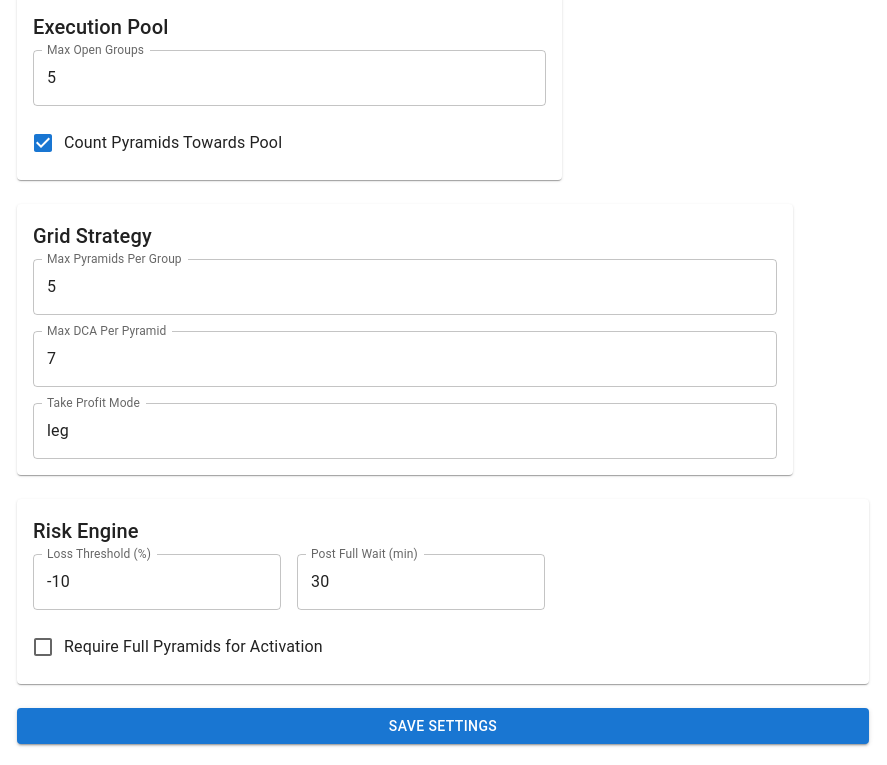
Test: SettingsPage Component › handles error on config save failure
(page scrolled)
Click the button "Save Settings" at [443, 726], box [17,708,869,744]
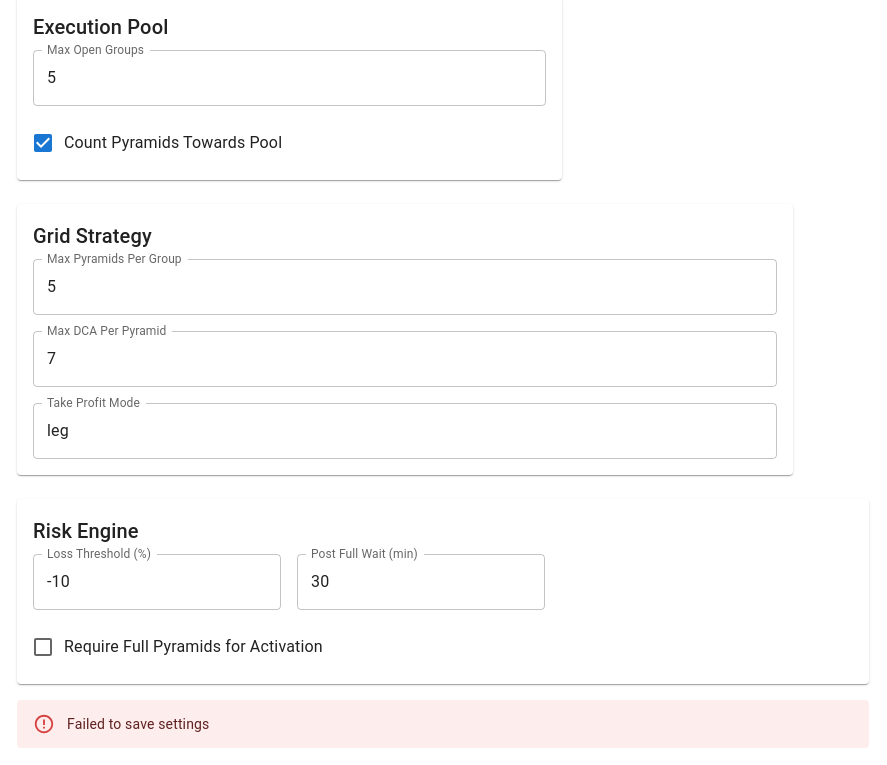
Check: the text "Failed to save settings" is shown, box [67,716,209,732]
